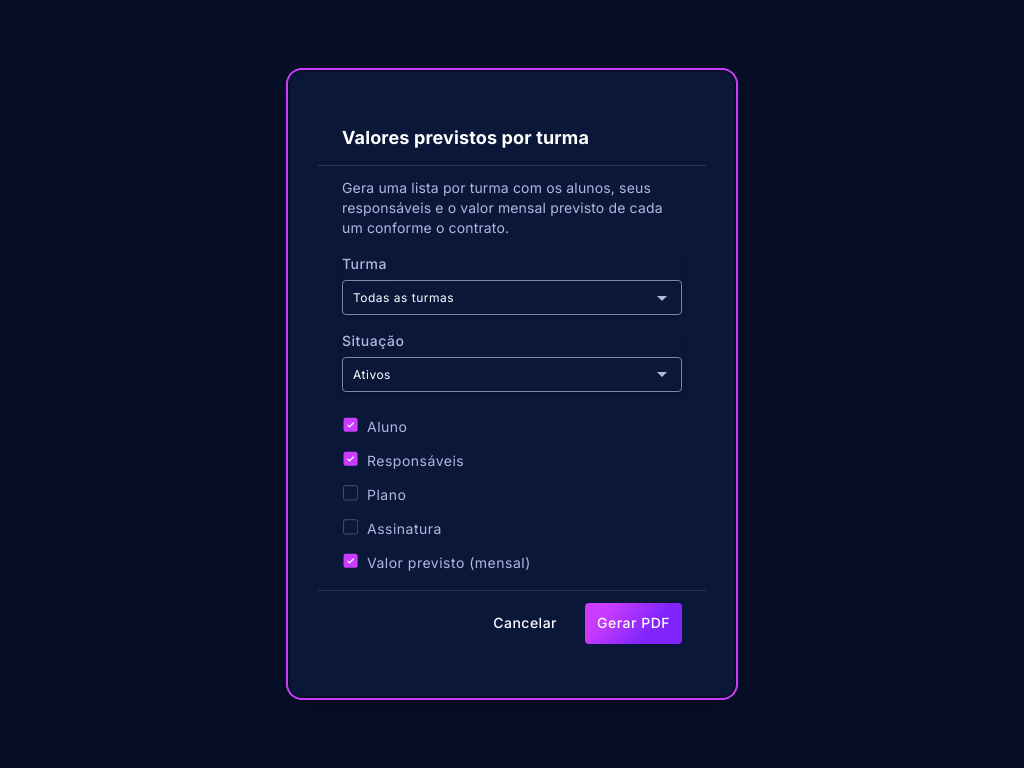
Test: ExpectedPaymentsReportDialog › lists "Todas as turmas" first in the class select
Click the dropdown labelled "turma". click: (404, 297)
box: [353, 290, 454, 305]
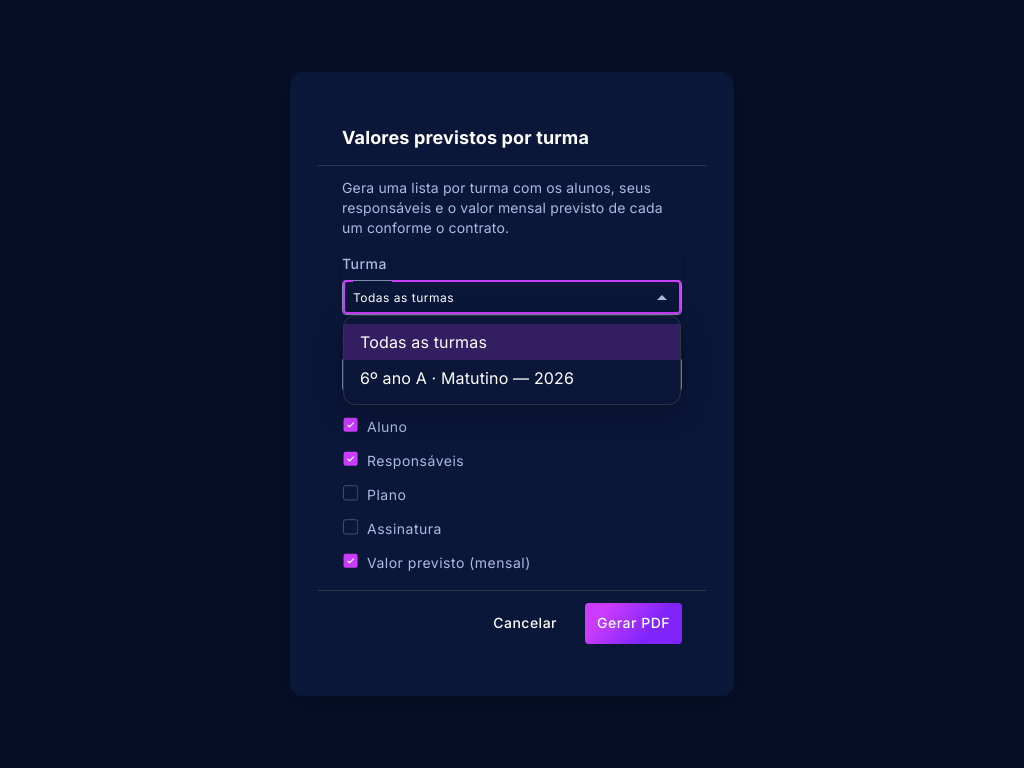
expect the option "Todas as turmas" is shown: met, box [344, 324, 680, 360]
